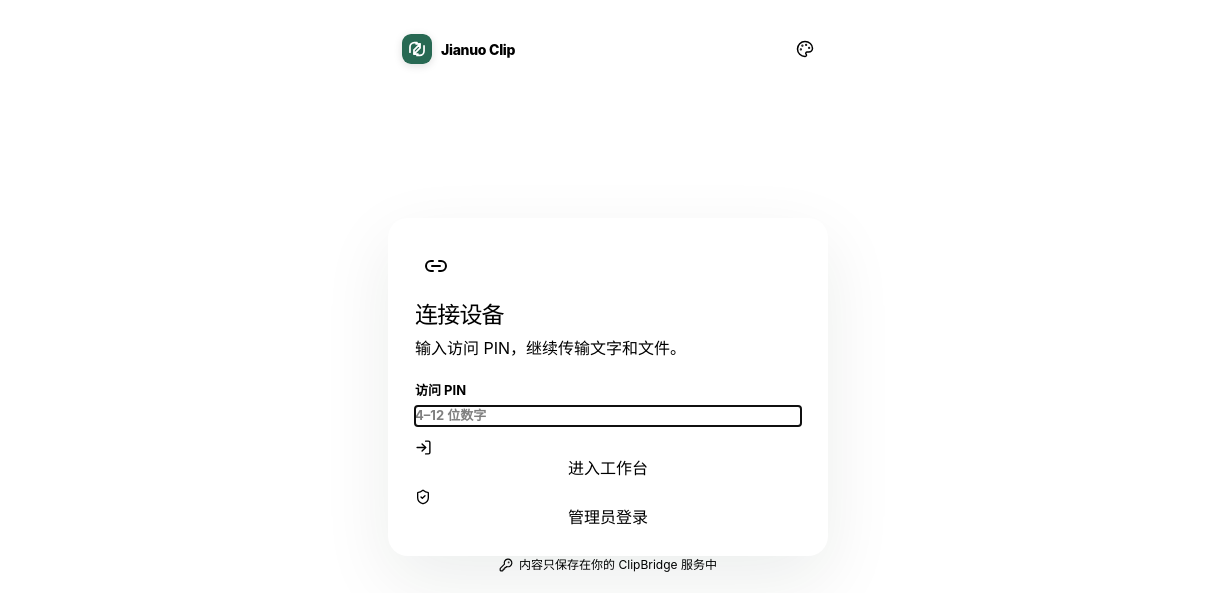
Test: App authentication › submits only the PIN and enters the compact workspace after cookie verification
In the password field labelled "访问 PIN": point(608, 416) [415,406,801,426], type "0012"
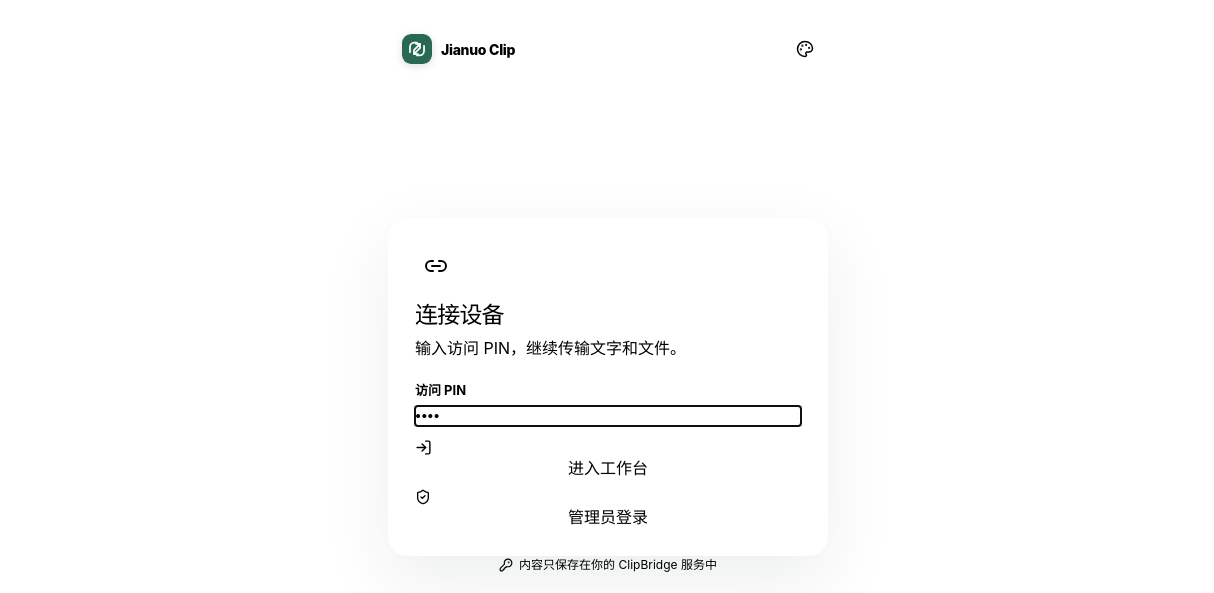
Click the button "进入工作台": point(608, 459) [415,439,801,480]
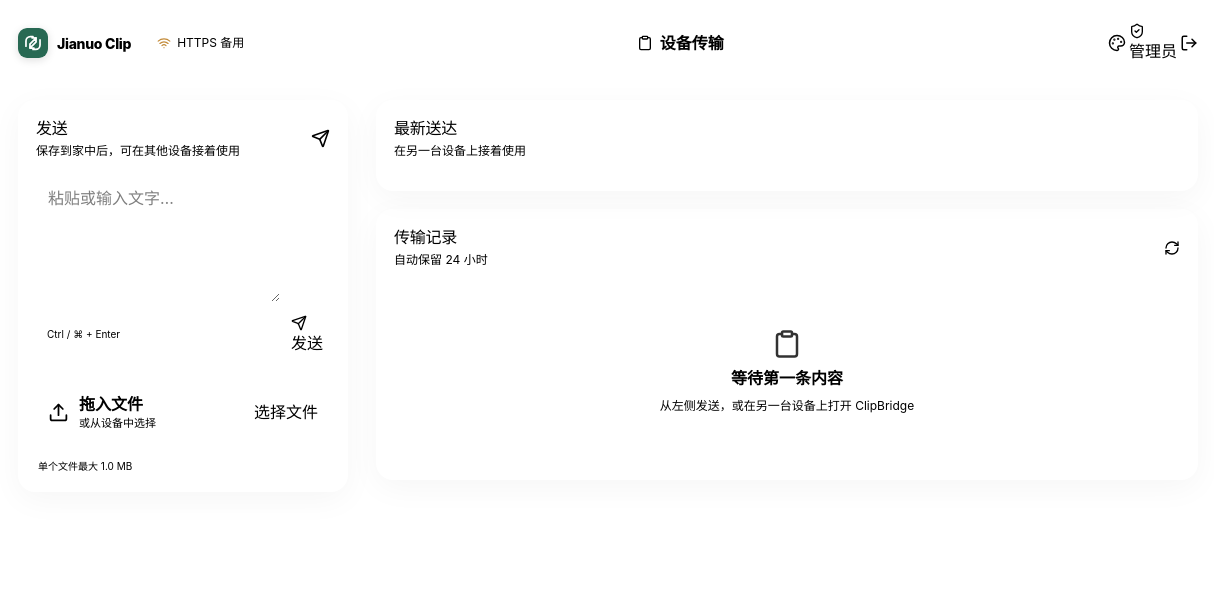
Expected: the heading "发送" is shown, [36,118,67,138]
Expected: the navigation bar named "工作空间" is shown, [622,12,739,74]
